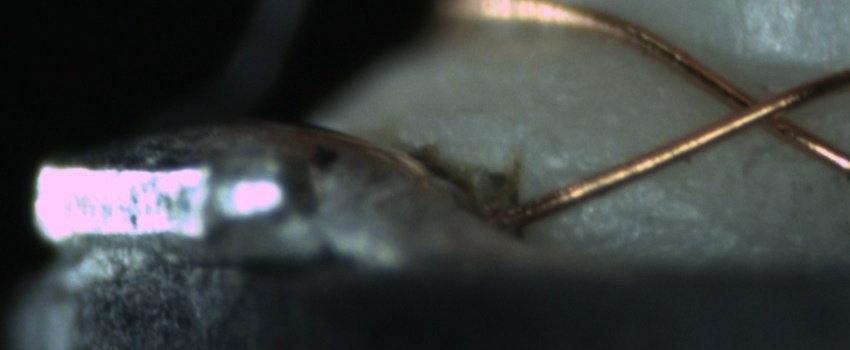CL: (706, 74, 812, 145)
